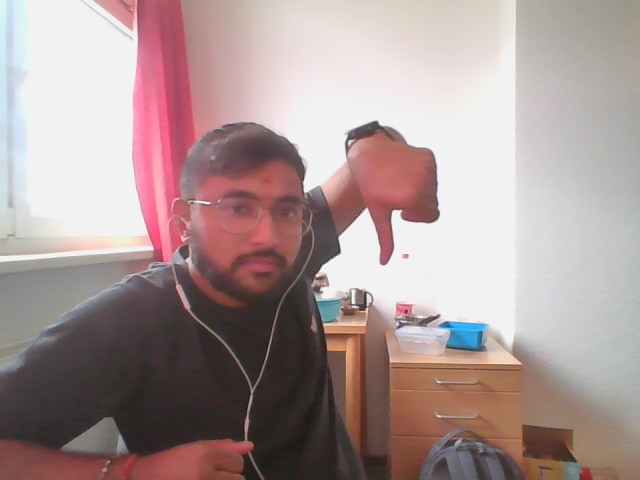ThumbsDown: (344, 128, 439, 264)
